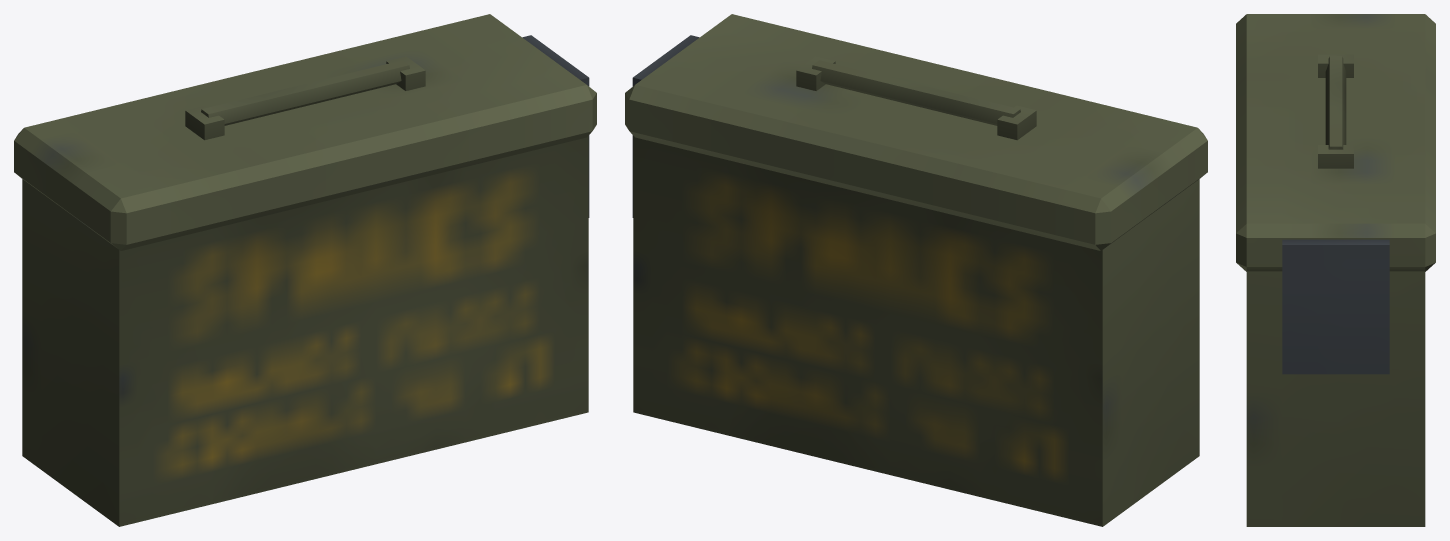
File: supply_can.glb
3 views of the same model, side by side, from view 1: azimuth 30°, elevation 25°; view 2: azimuth 150°, elevation 25°; view 3: azimuth 270°, elevation 25° (orthographic). The views are drawn at different scales.
Visible parts, largest first — view 1: supply_can; view 2: supply_can; view 3: supply_can.
Boxes of the visible parts, bbox=[...] form: supply_can: bbox=[14, 14, 596, 526]; supply_can: bbox=[625, 14, 1207, 526]; supply_can: bbox=[1236, 14, 1435, 526].
Size of the model in its own units: 0.297 by 0.1979 by 0.112.
Materials: 1 (1 with a texture image).
